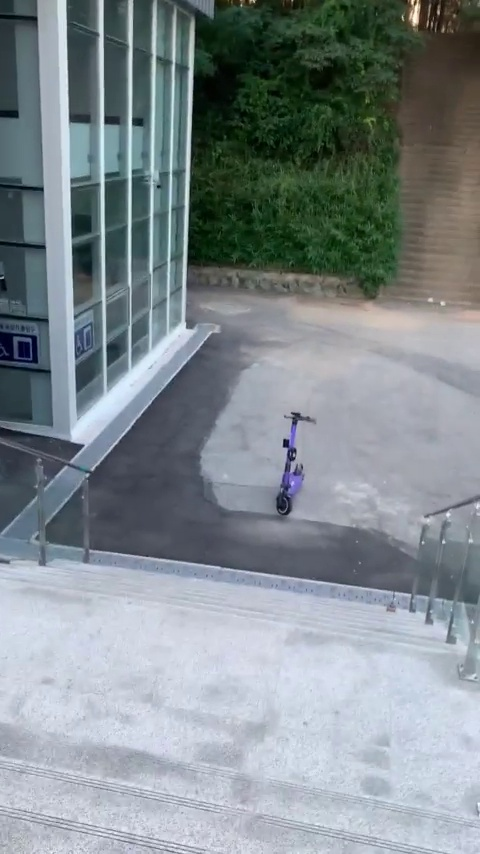beam: (270, 397, 325, 527)
